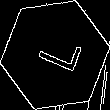L_W: (27, 31, 83, 79)
